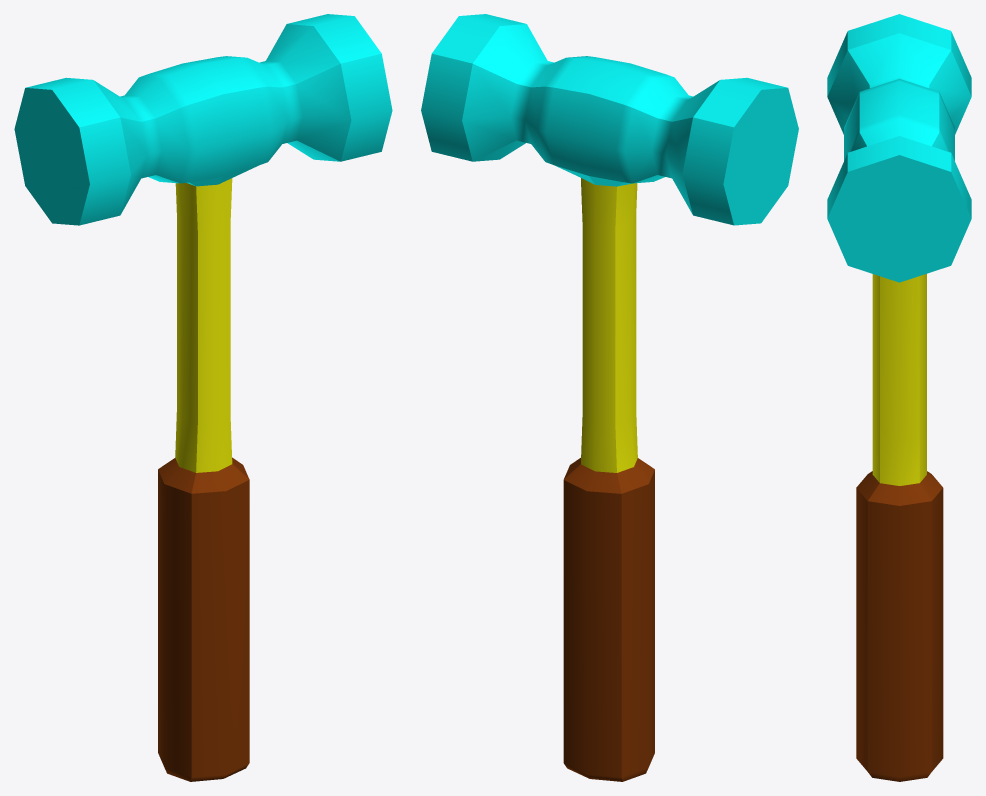
Rendered from Texture_Hammer.obj.
The picture shows the model from 3 angles, left to right: view 1: azimuth 30°, elevation 25°; view 2: azimuth 150°, elevation 25°; view 3: azimuth 270°, elevation 25°; orthographic projection. The views are drawn at different scales.
Parts seen in each view (by area): view 1: HammerMesh; view 2: HammerMesh; view 3: HammerMesh.
Part boxes in pixels (<box>): HammerMesh: <box>14,14,392,781</box>; HammerMesh: <box>421,14,798,781</box>; HammerMesh: <box>827,14,971,781</box>.
Size of the model in its own units: 7.14 by 16.05 by 3.09.
